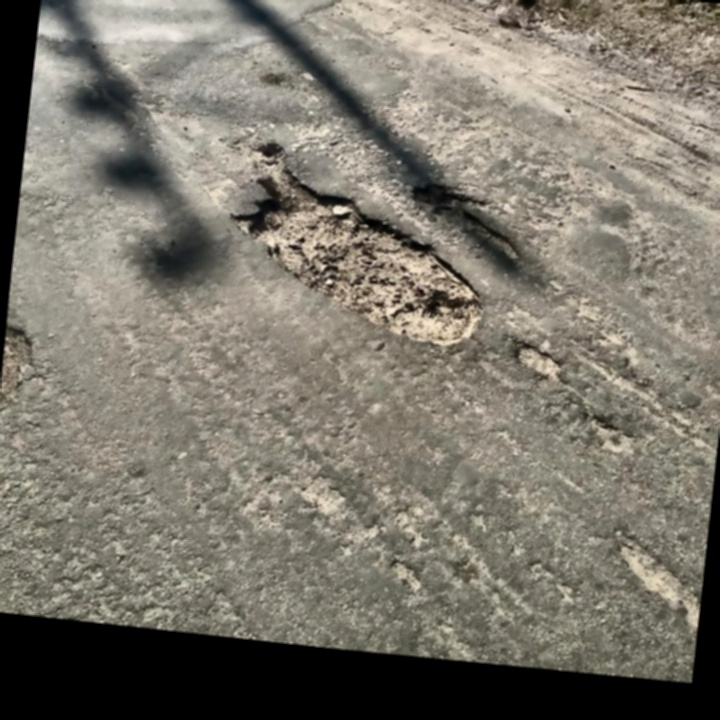pothole: (217, 131, 498, 357), (402, 176, 531, 268), (600, 523, 708, 629), (0, 321, 41, 409), (504, 336, 573, 384)
